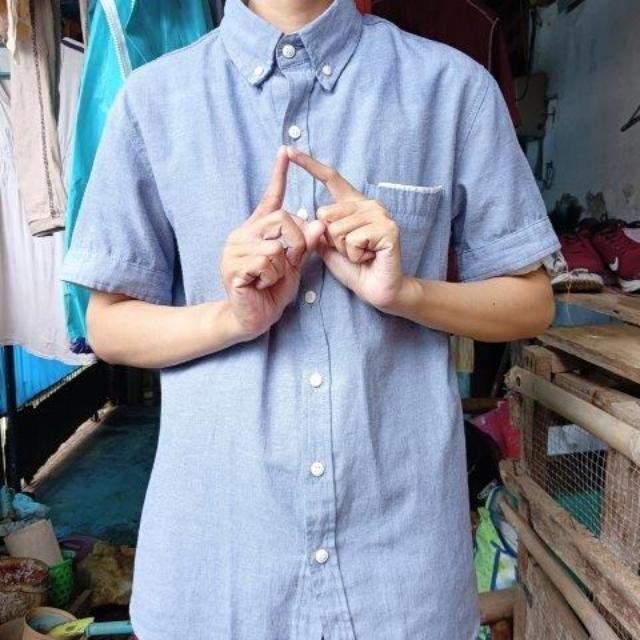A: (208, 132, 412, 338)
